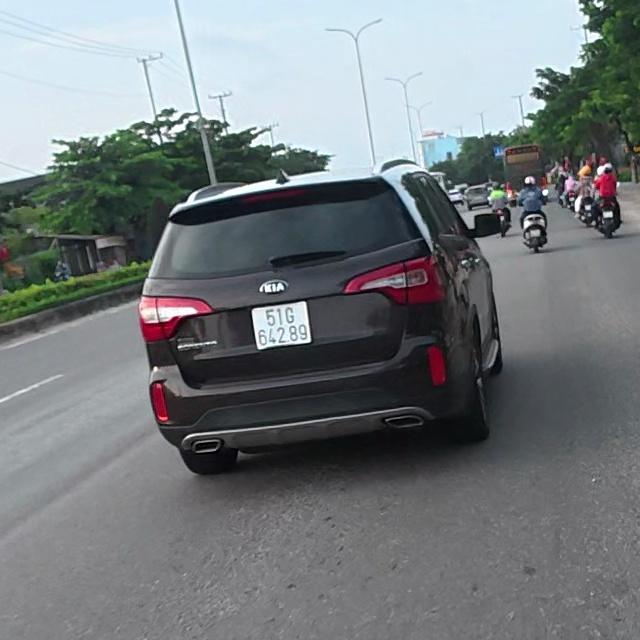license-plate: (250, 300, 312, 351)
